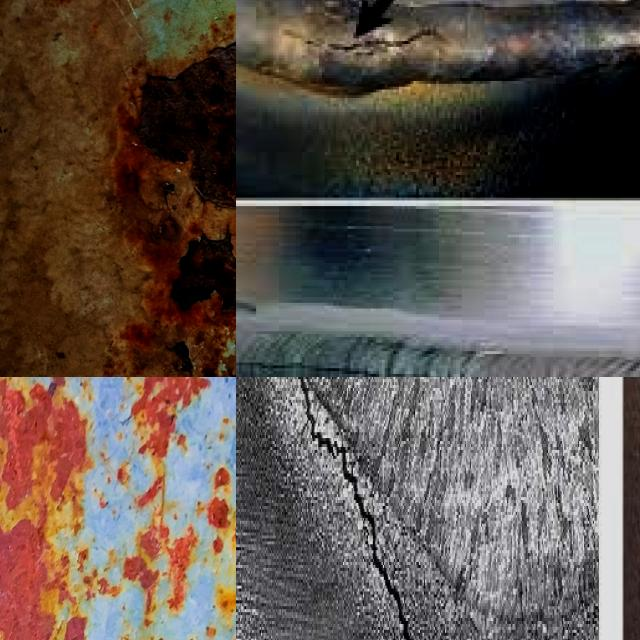Crack: (297, 377, 416, 640), (236, 353, 640, 377), (282, 24, 473, 64)
Pitting Corrosion: (106, 40, 236, 377)
Uniform Corrosion: (104, 377, 236, 640), (0, 378, 87, 549)
